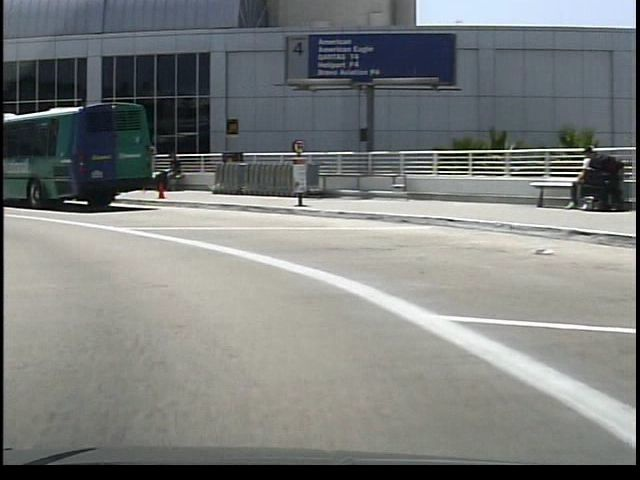person: (153, 147, 182, 195)
